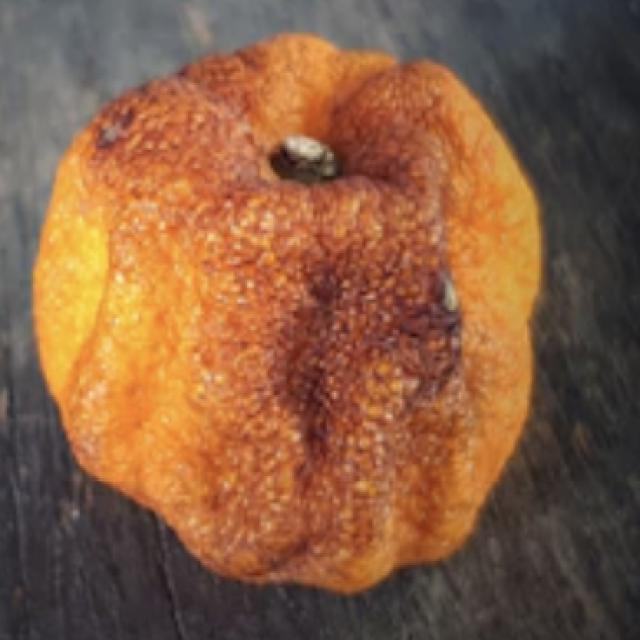sangat-busuk: (33, 34, 541, 592)
